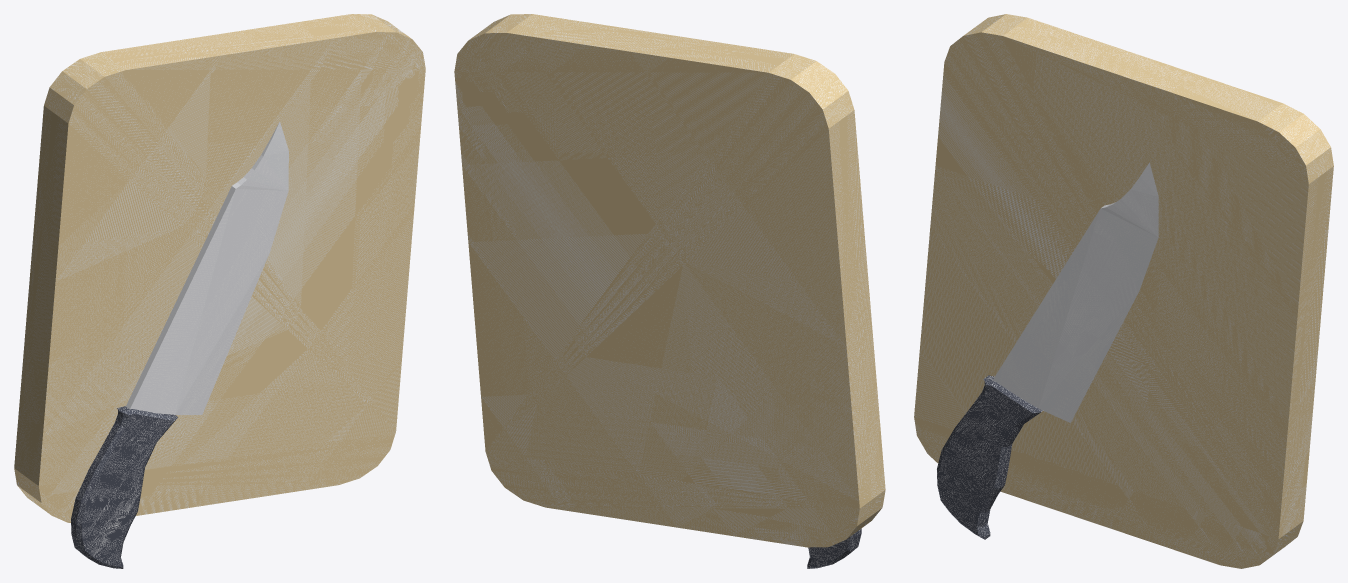
3 views of the same model, side by side, from view 1: azimuth 30°, elevation 25°; view 2: azimuth 150°, elevation 25°; view 3: azimuth 330°, elevation 25° (orthographic). The views are drawn at different scales.
Visible parts, largest first — view 1: kitchen knife w cutting board; view 2: kitchen knife w cutting board; view 3: kitchen knife w cutting board.
Part boxes in pixels (x1,y1,x2,y2): kitchen knife w cutting board: (14, 14, 425, 568); kitchen knife w cutting board: (454, 14, 885, 568); kitchen knife w cutting board: (914, 14, 1333, 568).
Size of the model in its own units: 2.73 by 3.3 by 0.4164.
